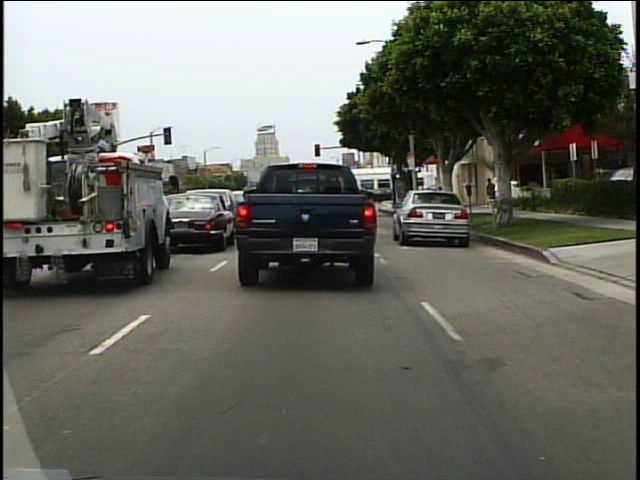person: (484, 177, 496, 208)
